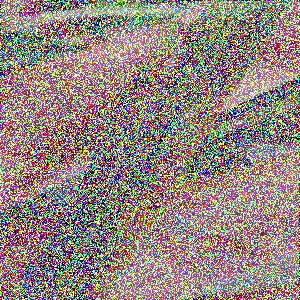Brown_Spot: (135, 36, 198, 84), (165, 1, 219, 44), (122, 184, 161, 209), (152, 156, 187, 182), (178, 102, 202, 125)
